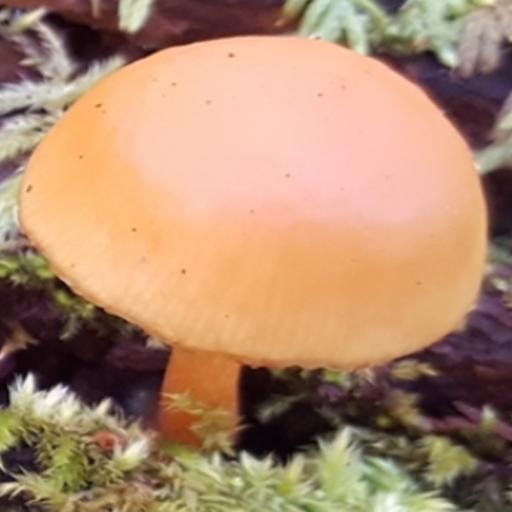mushroom: (17, 30, 494, 415)
